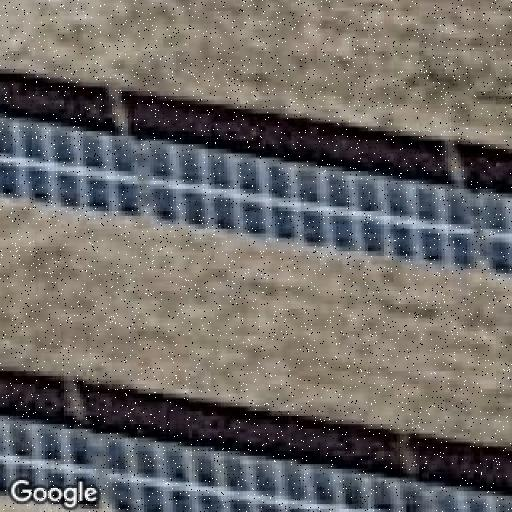solar-panel: (0, 114, 512, 284), (0, 411, 512, 512)
